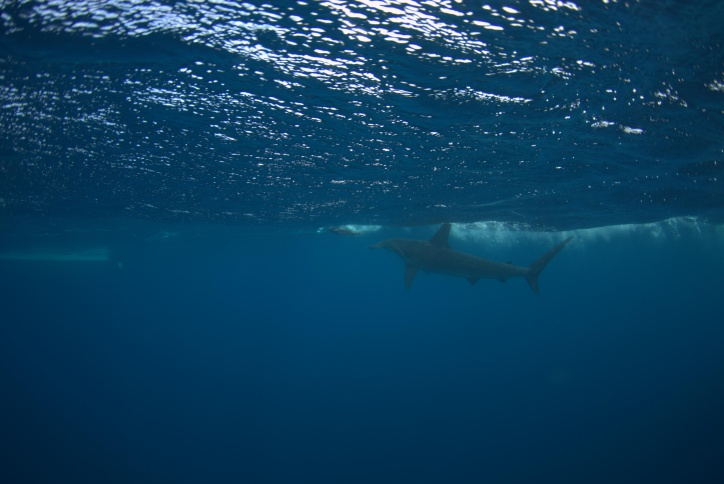Hammer: (360, 215, 573, 321)
